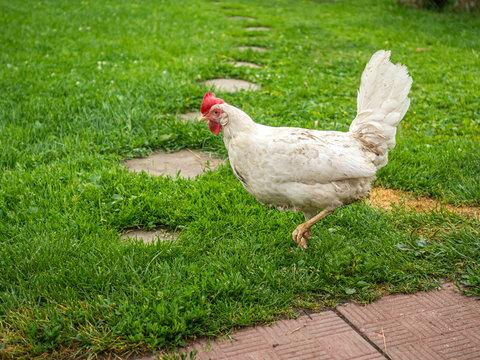AbNormal: (198, 53, 411, 249)
